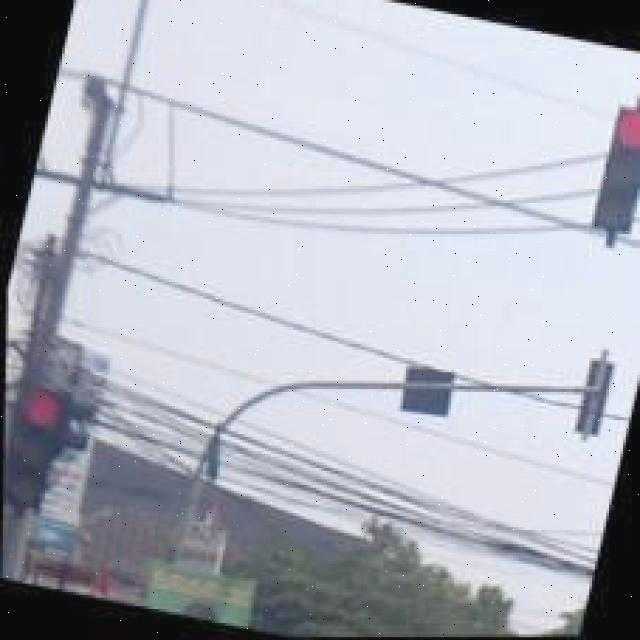Red: (8, 333, 78, 523), (587, 87, 640, 281)
